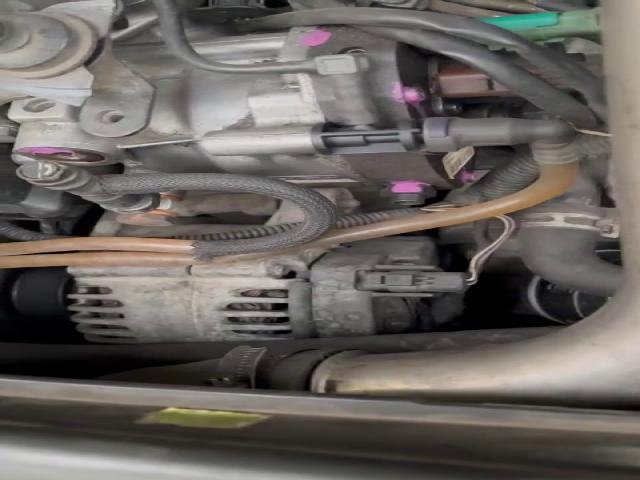alternator: (63, 233, 474, 346)
high_pressure_pump: (9, 20, 483, 206)
